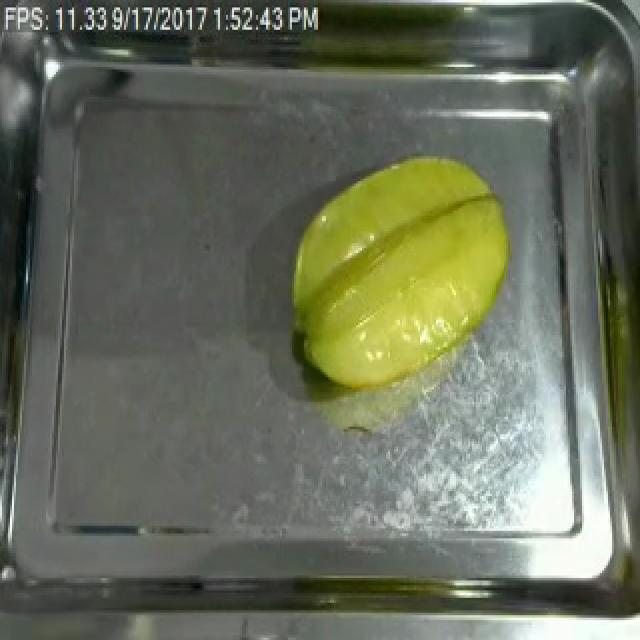fruit: (274, 141, 524, 402)
